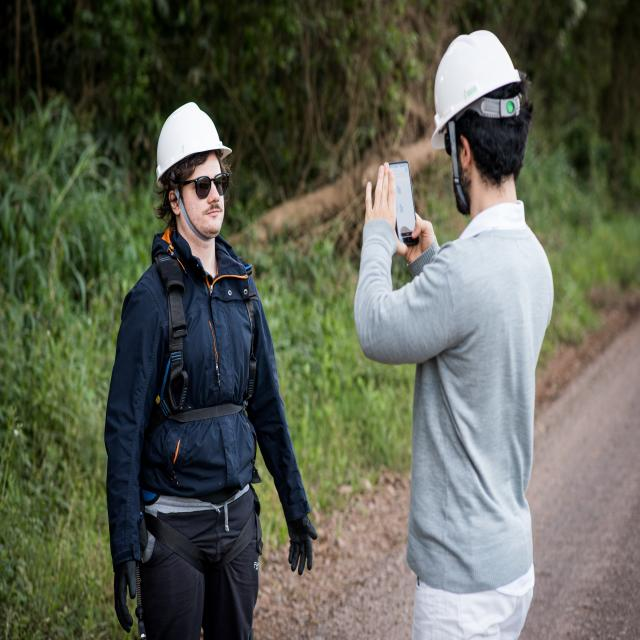capacete: (428, 29, 524, 148), (153, 100, 235, 190)
corda de vida: (133, 243, 267, 590)
luva: (284, 507, 318, 578), (110, 554, 139, 637)
